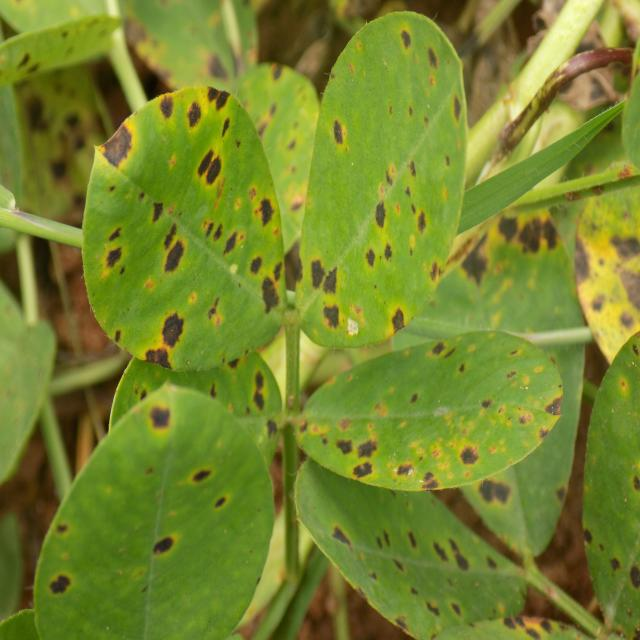Ground nut_tikka leaf spot: (286, 14, 474, 348), (83, 85, 290, 369), (297, 437, 531, 638), (285, 328, 566, 490), (105, 336, 288, 501)
